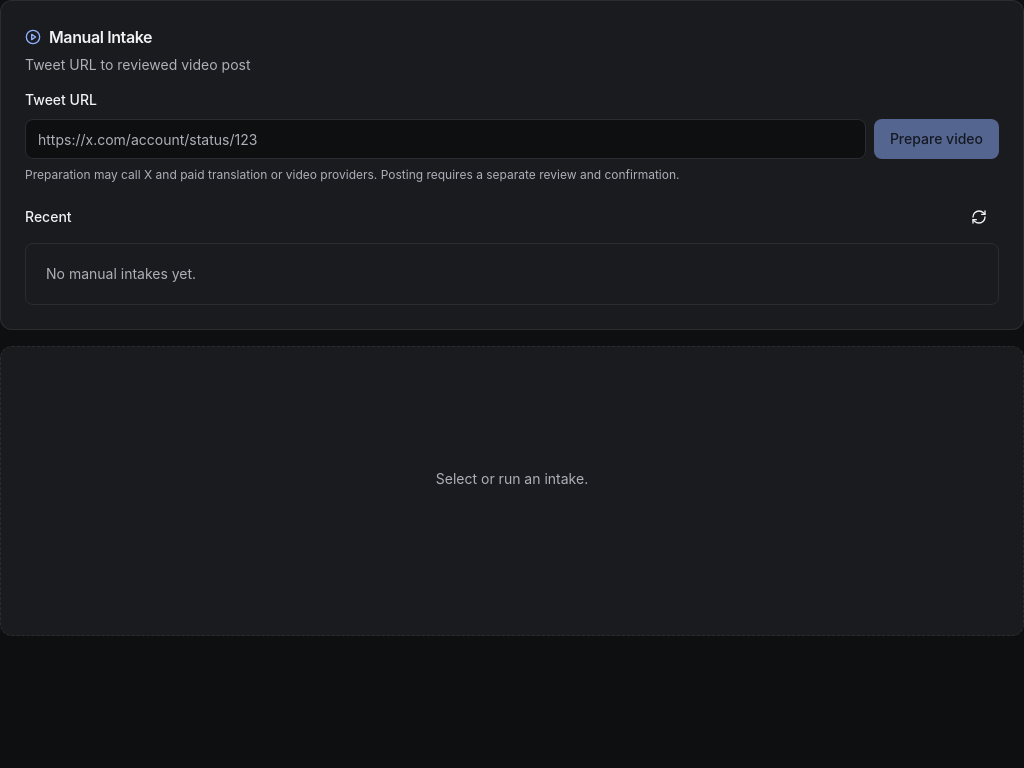
Test: manual intake consequential actions › accepts server-supported URL https://mobile.twitter.com/example/status/12345 without starting preparation
This screenshot has width=1024, height=768.
Type "https://mobile.twitter.com/example/status/12345" into the field labelled "Tweet URL" at x=445, y=139, box [25,119,866,159]
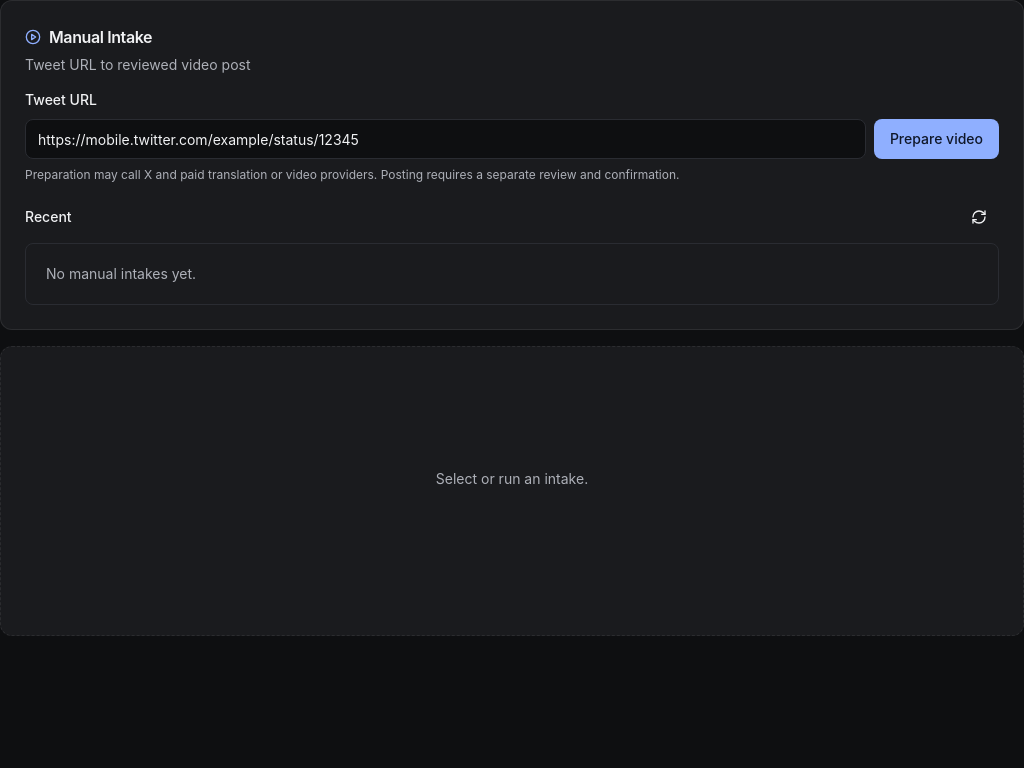
Submit the form labelled "Tweet URL", box [25,87,999,183]
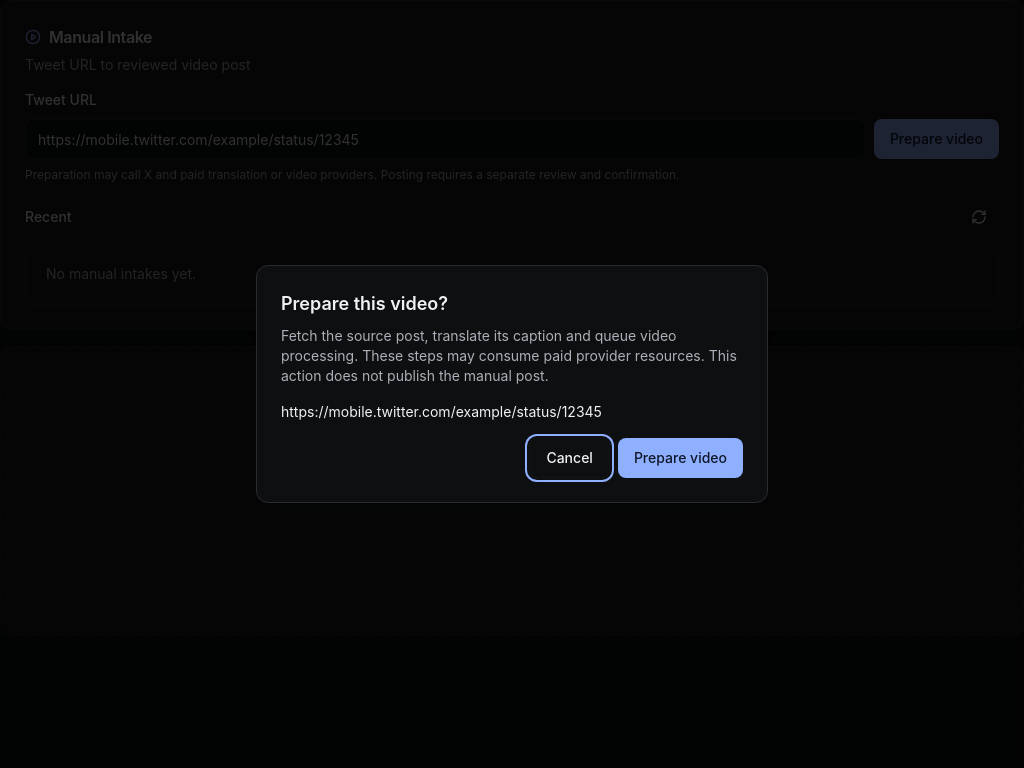
expect the dialog shows "https://mobile.twitter.com/example/status/12345": met, box [281,403,602,420]
